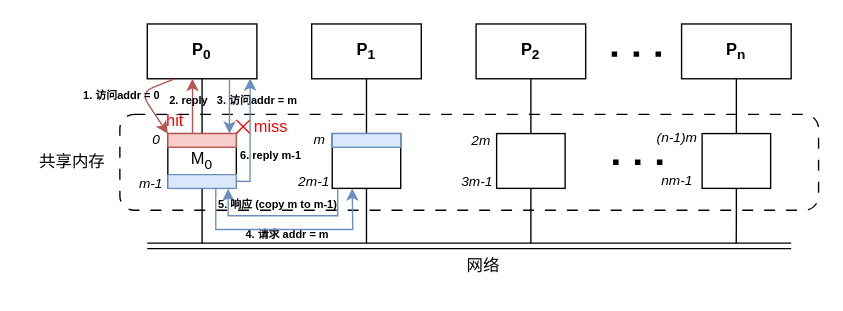
The diagram is 843 pixels wide and 311 high, and some of its shapes have lost their labels. Each missing label, with the centre of its shape:
"M 1" goes at point (366, 160).
"M 2" goes at point (530, 160).
"M n" goes at point (736, 160).
